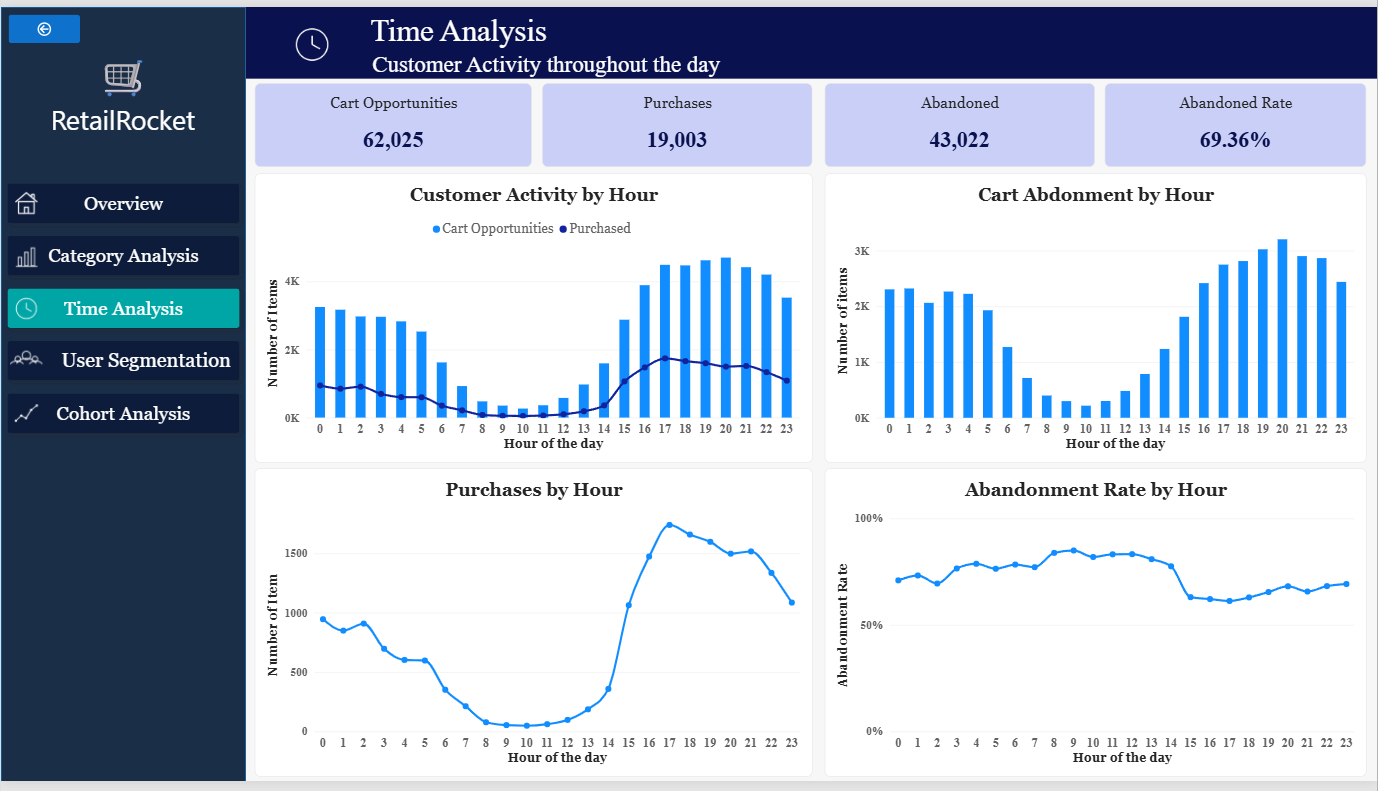

Layout of this report page (visuals, bound fields, positions):
{"tool":"powerbi","page":{"name":"Time Analysis","canvas":[1920,1080],"ordinal":2},"visuals":[{"type":"shape","box":[0,0,341.9,1081.4],"z":0},{"type":"textbox","title":"Category Analysis","box":[341.7,0,1578.3,100],"z":0,"group":"g1"},{"type":"actionButton","box":[0,237.2,341.9,73.3],"z":1000},{"type":"actionButton","box":[0,310.5,341.9,73.3],"z":2000},{"type":"actionButton","box":[0,383.7,341.9,73.3],"z":3000},{"type":"actionButton","box":[0,457,341.9,73.3],"z":4000},{"type":"actionButton","box":[0,530.2,341.9,73.3],"z":5000},{"type":"textbox","box":[29.7,41.9,280.8,177.9],"z":6000},{"type":"group","id":"g1","title":"Group 1","box":[341.7,0,1578.3,100],"z":7000},{"type":"card","title":"Cart Opportunities","fields":{"Values":["Sum(Time_Analysis.cart_opportunities)"]},"box":[354.1,106.4,386.7,116.7],"z":8000},{"type":"card","title":"Purchases","fields":{"Values":["Sum(Time_Analysis.purchased)"]},"box":[755.7,106.4,376.7,116.7],"z":9000},{"type":"card","title":"Abandoned","fields":{"Values":["Sum(Time_Analysis.abandoned)"]},"box":[1149.1,106.4,376.7,116.7],"z":10000},{"type":"card","title":"Abandoned Rate","fields":{"Values":["Time_Analysis.Abandonment Rate"]},"box":[1540.7,106.4,365,116.7],"z":11000},{"type":"lineClusteredColumnComboChart","title":"Customer Activity by Hour","fields":{"Category":["Time_Analysis.hour"],"Y":["Sum(Time_Analysis.cart_opportunities)"],"Y2":["Sum(Time_Analysis.purchased)"]},"box":[354,232,778,404],"z":12000},{"type":"clusteredColumnChart","title":"Cart Abdonment by Hour","fields":{"Category":["Time_Analysis.hour"],"Y":["Sum(Time_Analysis.abandoned)"]},"box":[1150,232,756,404],"z":13000},{"type":"lineChart","title":"Purchases by Hour","fields":{"Category":["Time_Analysis.hour"],"Y":["Sum(Time_Analysis.purchased)"]},"box":[354,644,778,430],"z":14000},{"type":"lineChart","title":"Abandonment Rate by Hour","fields":{"Category":["Time_Analysis.hour"],"Y":["Time_Analysis.Abandonment Rate"]},"box":[1150,644,756,430],"z":15000},{"type":"image","box":[387.8,16.9,93.7,69.3],"z":16000},{"type":"actionButton","box":[10,10,100,40],"z":17000}]}

Visuals, with their boxes on the page's 1920x1080 design canvas (x1, y1, x2, y2). These are canvas units, not pixel positions in the 1386x791 screenshot, which may show the page scaled, cropped or inside an application window:
shape: x1=0 y1=0 x2=342 y2=1081
"Category Analysis" textbox: x1=342 y1=0 x2=1920 y2=100
actionButton: x1=0 y1=237 x2=342 y2=310
actionButton: x1=0 y1=310 x2=342 y2=384
actionButton: x1=0 y1=384 x2=342 y2=457
actionButton: x1=0 y1=457 x2=342 y2=530
actionButton: x1=0 y1=530 x2=342 y2=604
textbox: x1=30 y1=42 x2=310 y2=220
"Group 1" group: x1=342 y1=0 x2=1920 y2=100
"Cart Opportunities" card: x1=354 y1=106 x2=741 y2=223
"Purchases" card: x1=756 y1=106 x2=1132 y2=223
"Abandoned" card: x1=1149 y1=106 x2=1526 y2=223
"Abandoned Rate" card: x1=1541 y1=106 x2=1906 y2=223
"Customer Activity by Hour" lineClusteredColumnComboChart: x1=354 y1=232 x2=1132 y2=636
"Cart Abdonment by Hour" clusteredColumnChart: x1=1150 y1=232 x2=1906 y2=636
"Purchases by Hour" lineChart: x1=354 y1=644 x2=1132 y2=1074
"Abandonment Rate by Hour" lineChart: x1=1150 y1=644 x2=1906 y2=1074
image: x1=388 y1=17 x2=482 y2=86
actionButton: x1=10 y1=10 x2=110 y2=50
